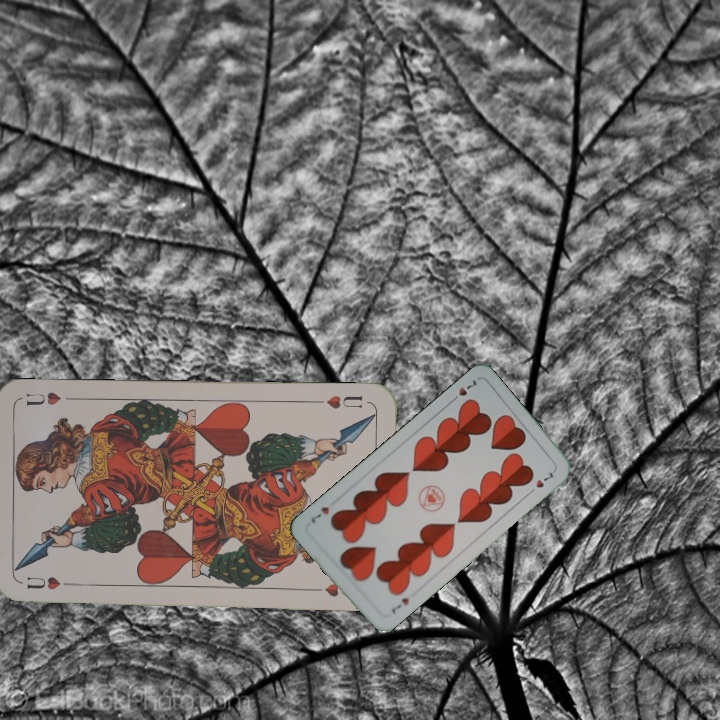H7: (446, 375, 479, 406), (387, 594, 412, 616)
HU: (22, 572, 78, 593), (312, 391, 365, 411)
